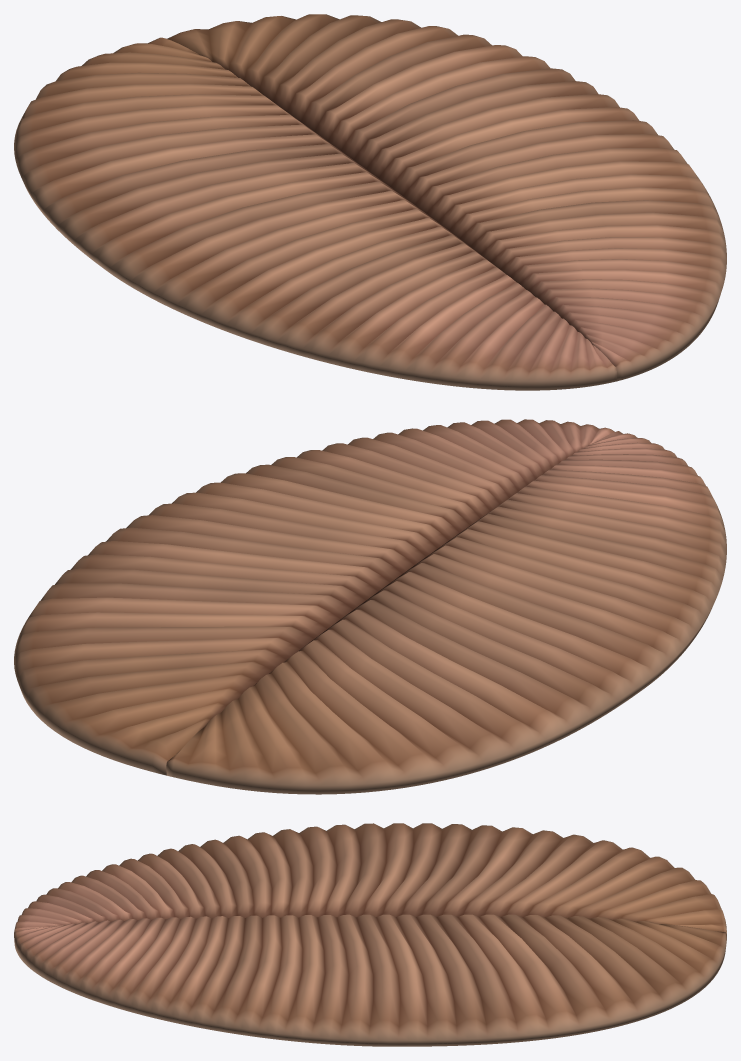
File: DickinsoniaCostata.fbx
3 renders of one model, top to bottom at view 1: azimuth 30°, elevation 25°; view 2: azimuth 150°, elevation 25°; view 3: azimuth 270°, elevation 25°, orthographic. The views are drawn at different scales.
Visible parts, largest first — view 1: DickinsoniaCostata; view 2: DickinsoniaCostata; view 3: DickinsoniaCostata.
Part boxes in pixels (<box>): DickinsoniaCostata: <box>14,14,726,390</box>; DickinsoniaCostata: <box>14,419,726,794</box>; DickinsoniaCostata: <box>14,823,726,1046</box>.
Size of the model in its own units: 1.12 by 0.0883 by 1.6.
